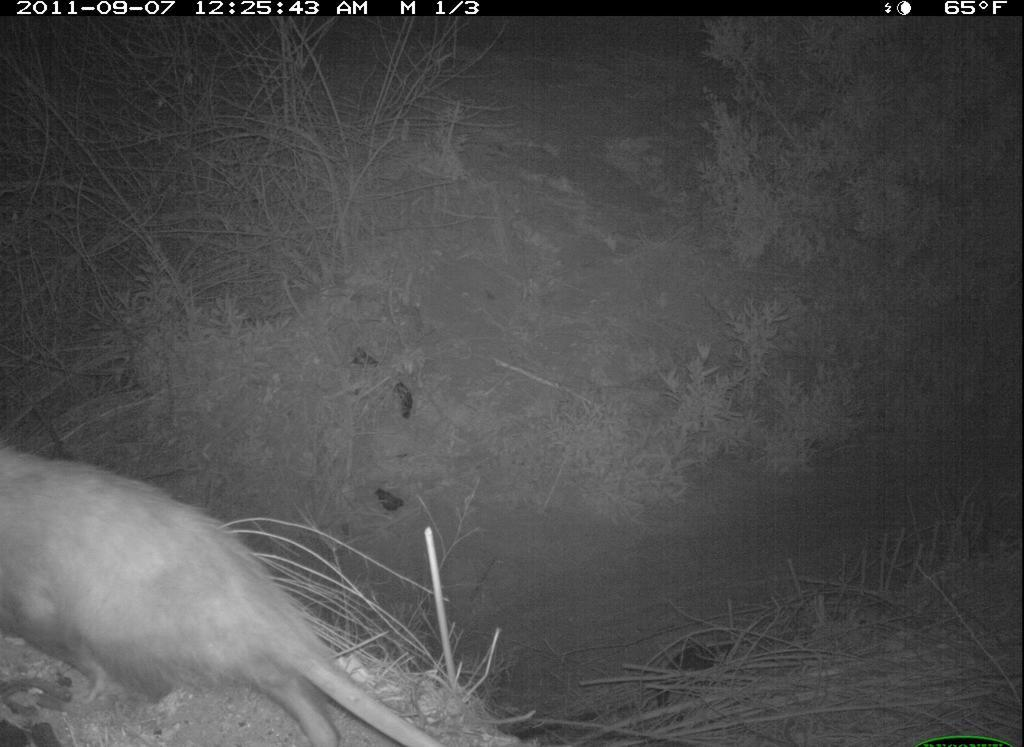opossum: (9, 429, 442, 747)
